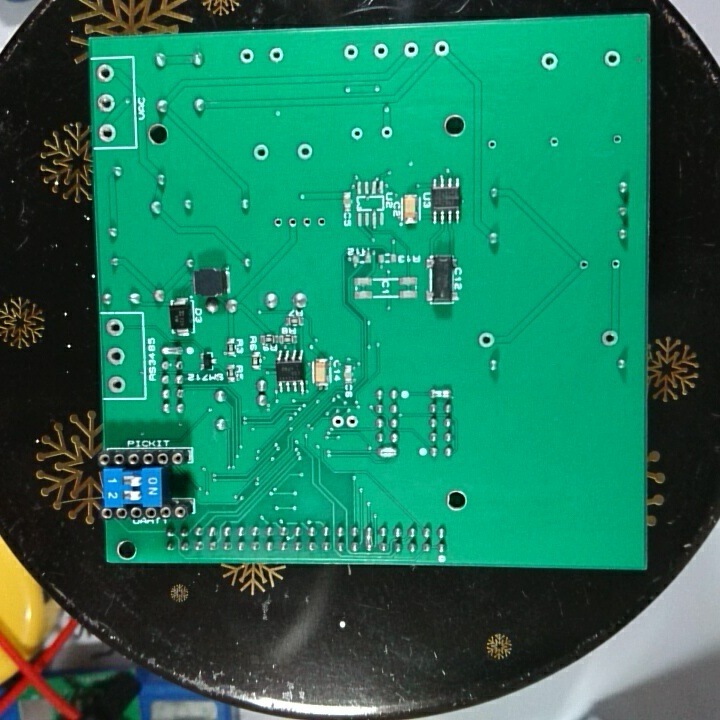F: (597, 326, 621, 349), (539, 50, 561, 75), (104, 345, 127, 367), (295, 140, 316, 164), (603, 47, 624, 70), (104, 316, 124, 340), (94, 62, 115, 84), (96, 92, 116, 115), (106, 374, 127, 395), (97, 123, 119, 143), (266, 46, 288, 66), (475, 330, 496, 349), (252, 142, 271, 163), (432, 38, 451, 59), (347, 124, 365, 143), (371, 43, 391, 60), (378, 125, 398, 141), (341, 44, 360, 60), (403, 40, 419, 59), (239, 47, 256, 64), (344, 413, 359, 431), (610, 132, 625, 148), (609, 256, 624, 272), (485, 136, 499, 153), (576, 257, 590, 273), (285, 214, 298, 231), (314, 214, 326, 232), (547, 134, 561, 149), (330, 414, 344, 429), (272, 215, 285, 230), (300, 215, 312, 230)
P: (361, 523, 376, 553), (375, 443, 399, 461), (159, 343, 186, 358), (427, 387, 454, 400)
